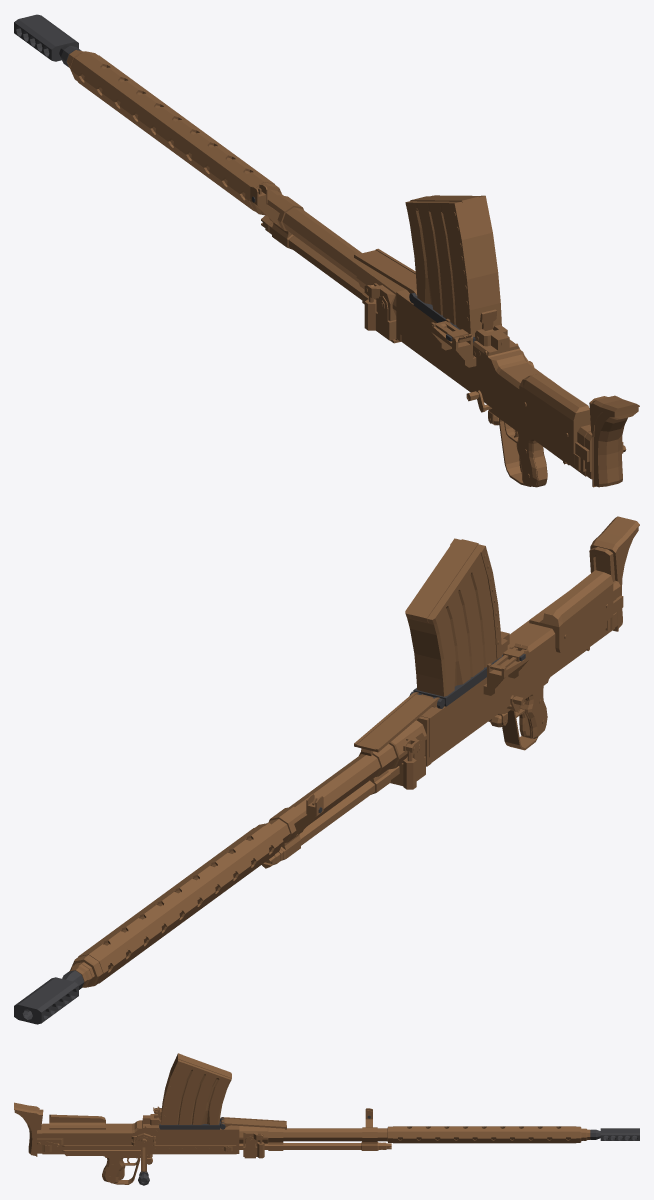
The picture shows the model from 3 angles, top to bottom: view 1: azimuth 30°, elevation 25°; view 2: azimuth 150°, elevation 25°; view 3: azimuth 270°, elevation 25°; orthographic projection. The views are drawn at different scales.
Parts seen in each view (by area): view 1: lahti-l39; view 2: lahti-l39; view 3: lahti-l39.
Part boxes in pixels (x1,y1,x2,y2): lahti-l39: [14, 14, 639, 487]; lahti-l39: [14, 516, 639, 1024]; lahti-l39: [14, 1053, 639, 1185].
Bounding box in the file's own units: 0.2037 × 0.4989 × 2.24.
